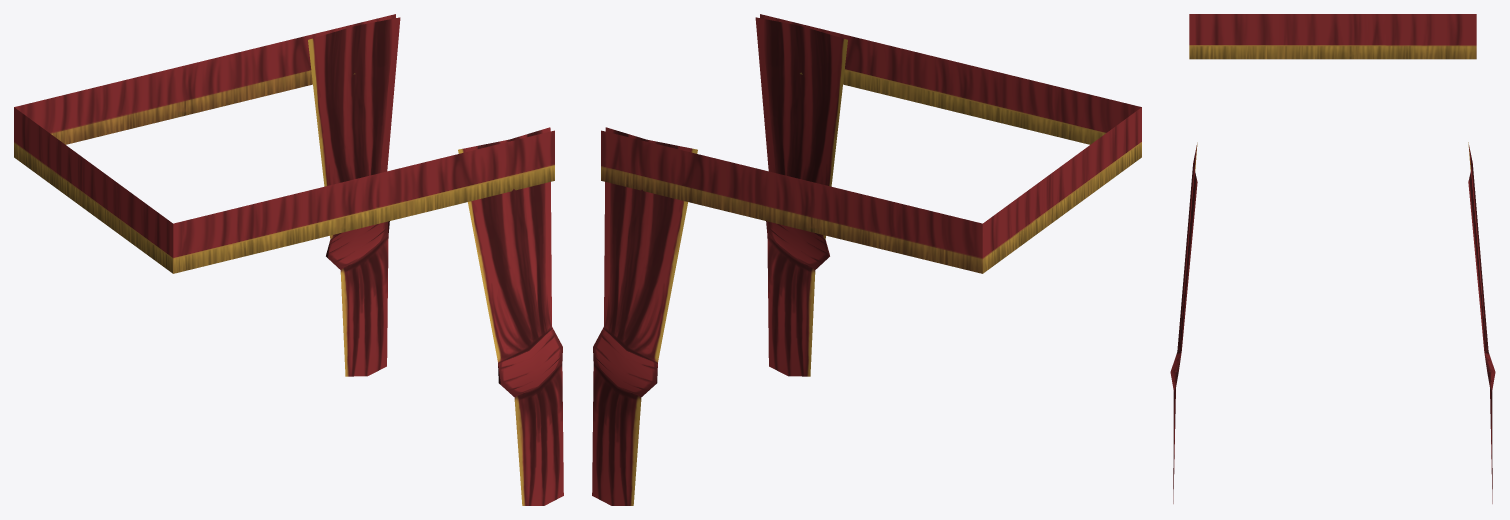
The model's file is BedCurtains_Mod.FBX.
3 renders of one model, left to right at view 1: azimuth 30°, elevation 25°; view 2: azimuth 150°, elevation 25°; view 3: azimuth 270°, elevation 25°, orthographic. The views are drawn at different scales.
Parts seen in each view (by area): view 1: BedCurtains; view 2: BedCurtains; view 3: BedCurtains.
Boxes of the visible parts, x1=… form: BedCurtains: x1=14, y1=14, x2=563, y2=505; BedCurtains: x1=592, y1=14, x2=1141, y2=505; BedCurtains: x1=1170, y1=14, x2=1495, y2=503.
Size of the model in its own units: 2.08 by 1.89 by 1.7.
Materials: 1 (1 with a texture image).
